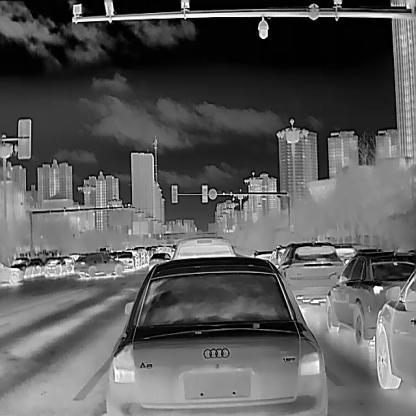car: (105, 256, 326, 415), (326, 247, 415, 345), (375, 268, 416, 388), (275, 239, 343, 294), (70, 250, 125, 277), (172, 237, 236, 259), (0, 260, 23, 284), (11, 256, 34, 277), (45, 258, 65, 275), (119, 249, 134, 269)
